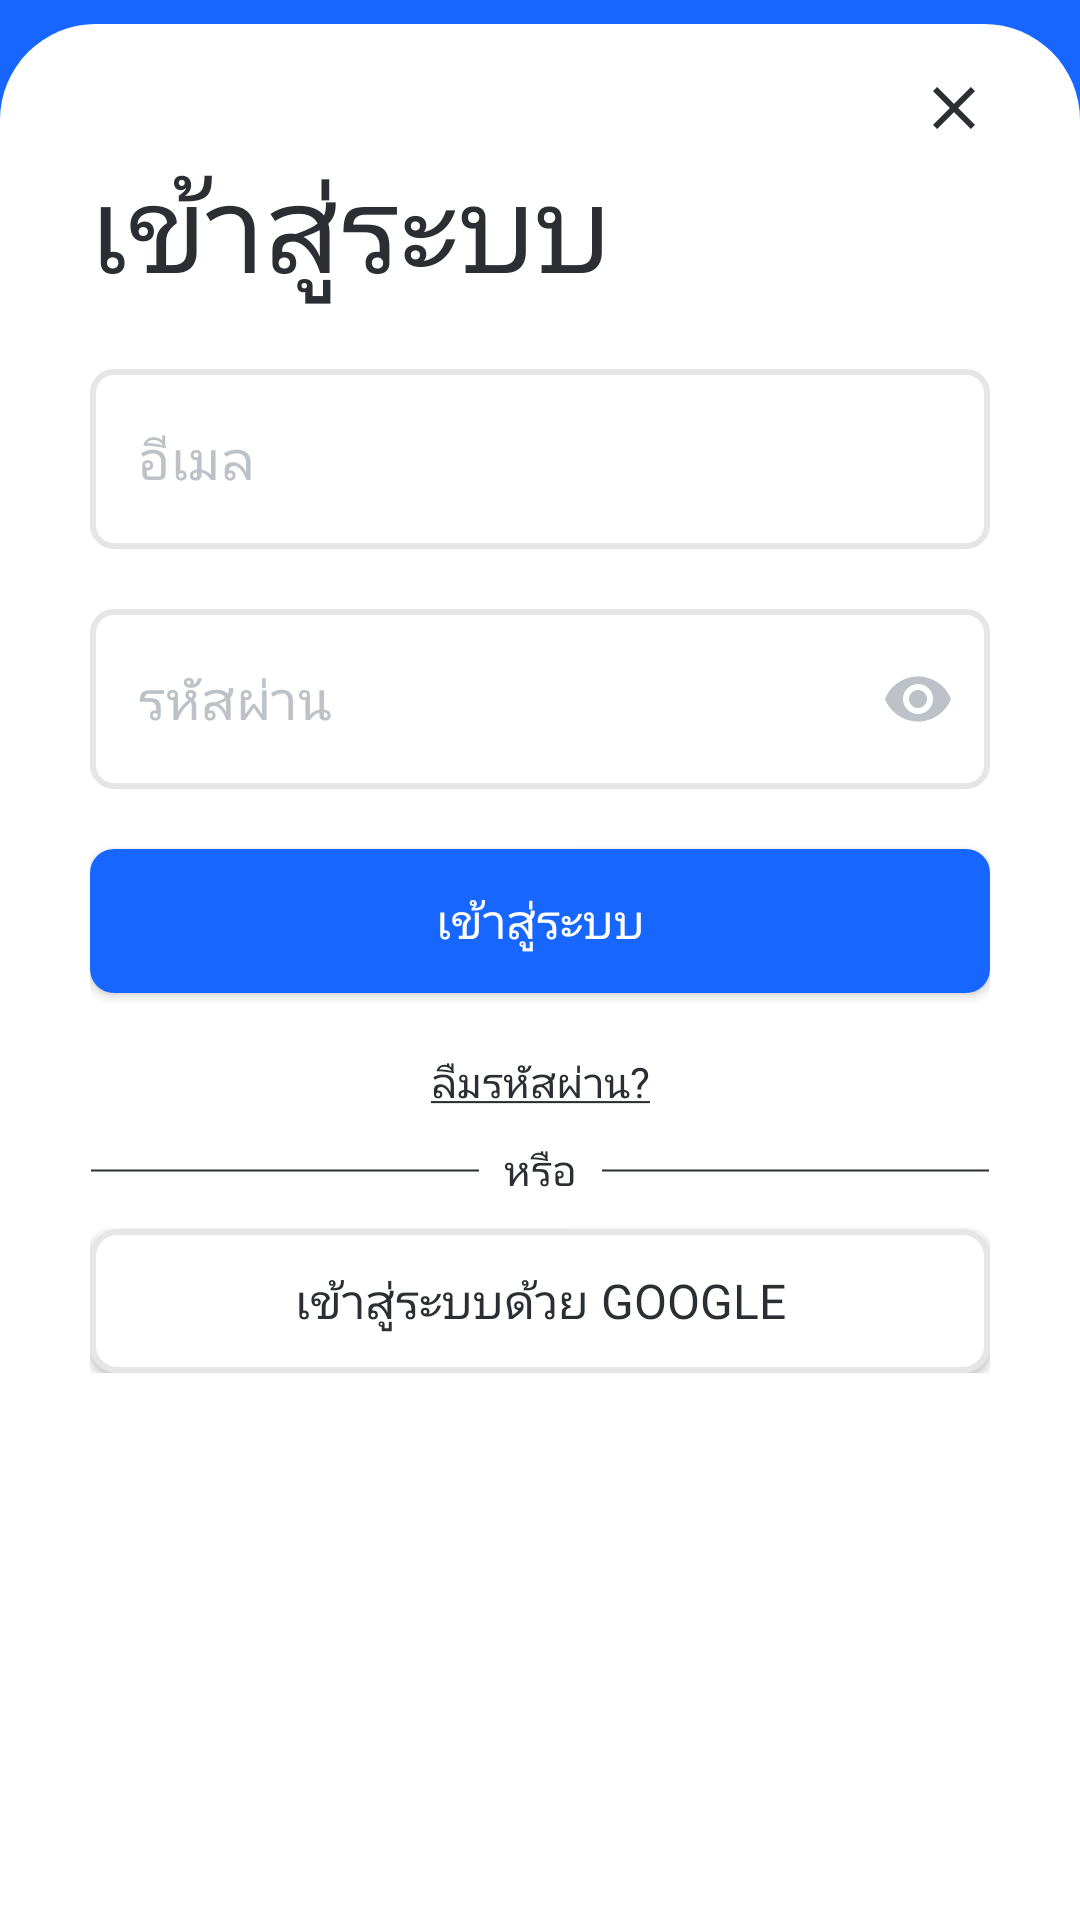

Icons on this 1080x1920 Android screen, each with its box as box(x1, y1, x2, y2):
ปิด: box(933, 87, 975, 129)
